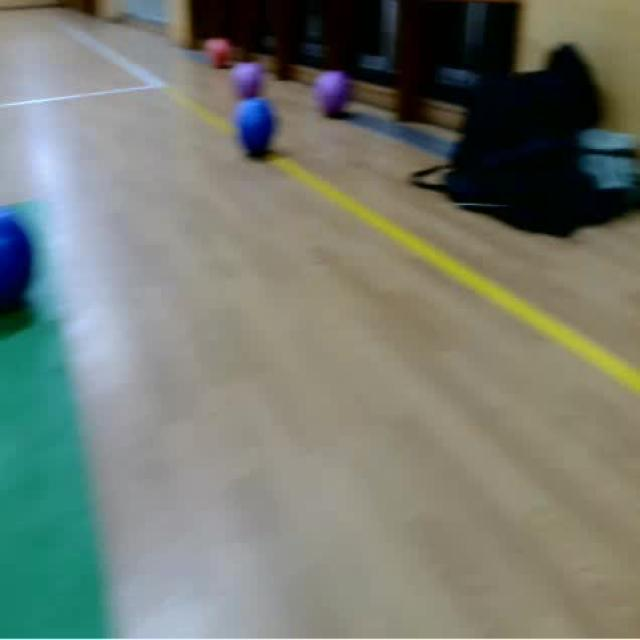blue_ball: (0, 206, 36, 319), (233, 99, 278, 160)
purple_ball: (319, 70, 350, 116), (234, 61, 264, 97)
red_ball: (205, 36, 236, 69)
